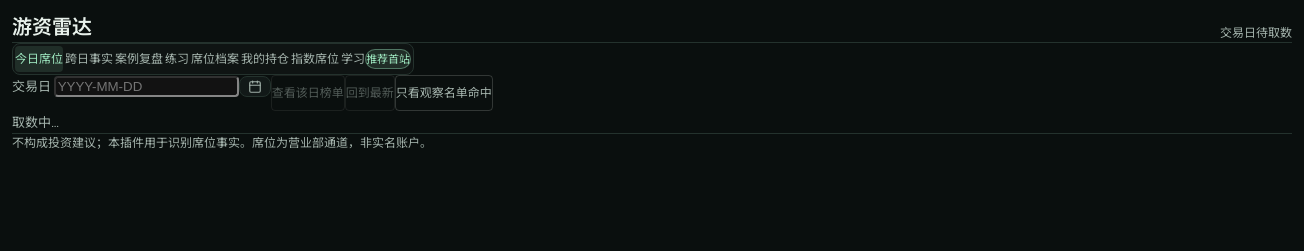
YouziPage · 案例复盘页签（Y3-07） › 区间内无交易日 → 与取数失败区分（不同文案）
This screenshot has width=1304, height=251.
Click the button titled "按证券代码与日期区间查看披露事件时间线": (139,59) [115,46,163,72]
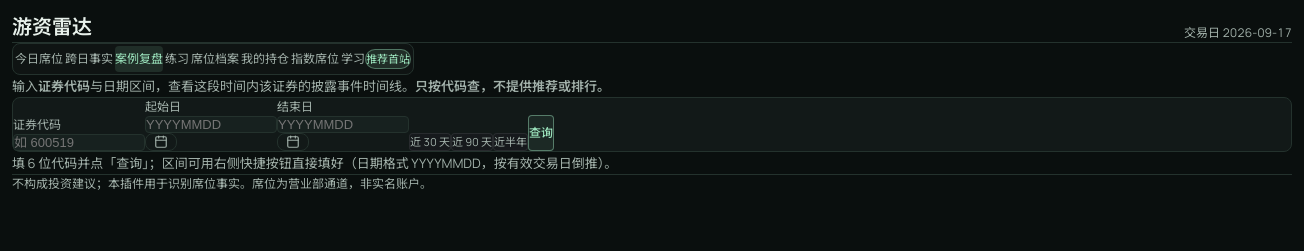
expect the button "查询" is shown: met, box [528,115,554,151]
In the field with placeholder "如 600519": (79,143) [13,134,145,151], type "600519"
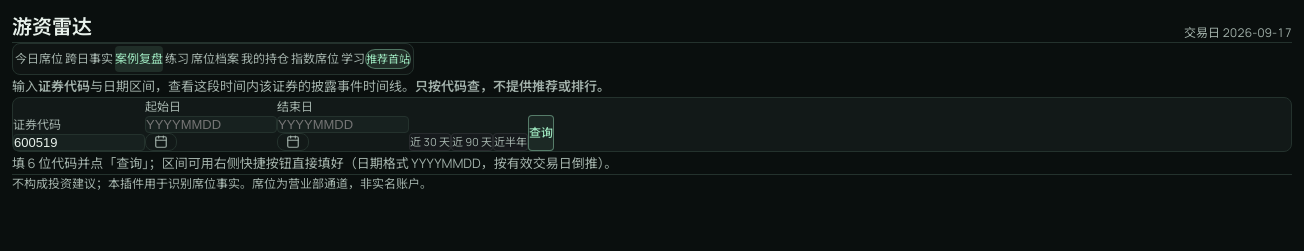
In the field with placeholder "YYYYMMDD": (211,125) [145,116,277,133], type "20260907"
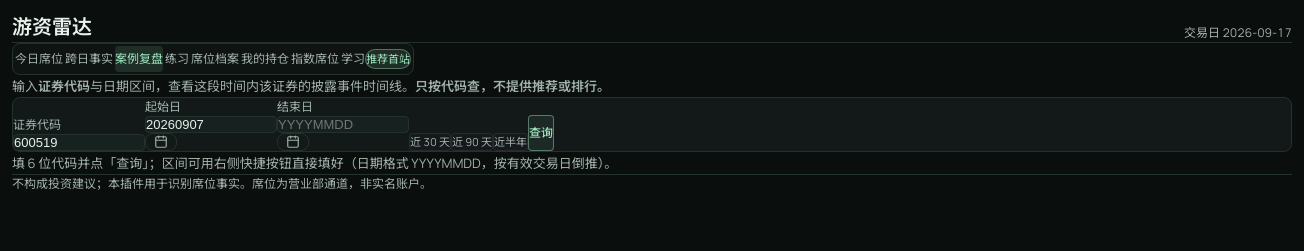
In the field with placeholder "YYYYMMDD": (343,125) [277,116,409,133], type "20260917"
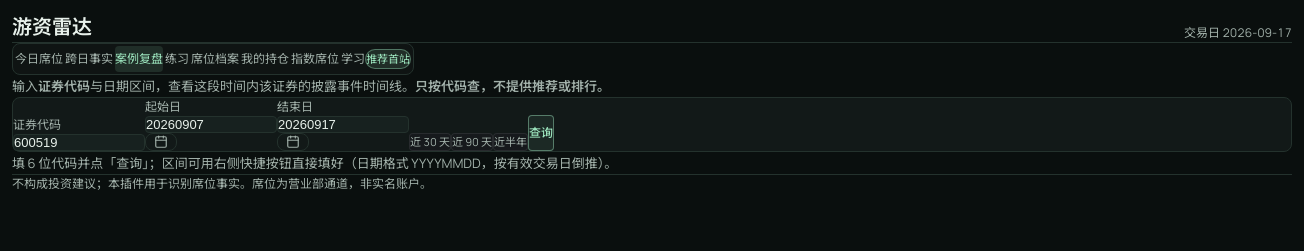
Click the button "查询": (541,133) [528,115,554,151]
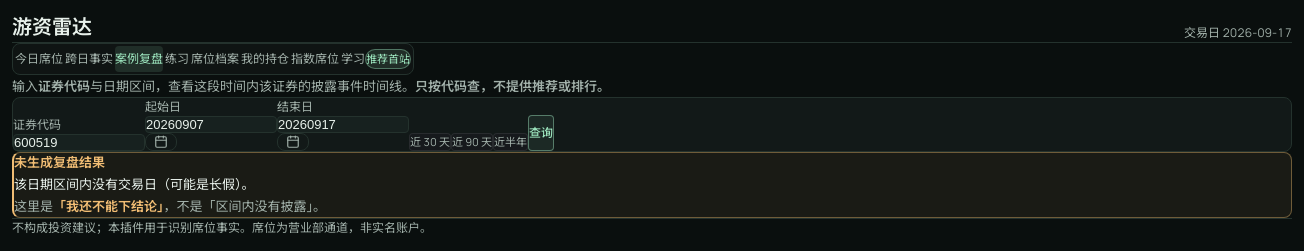
expect the text "该日期区间内没有交易日（可能是长假）。" is shown: met, box [14,173,254,195]
